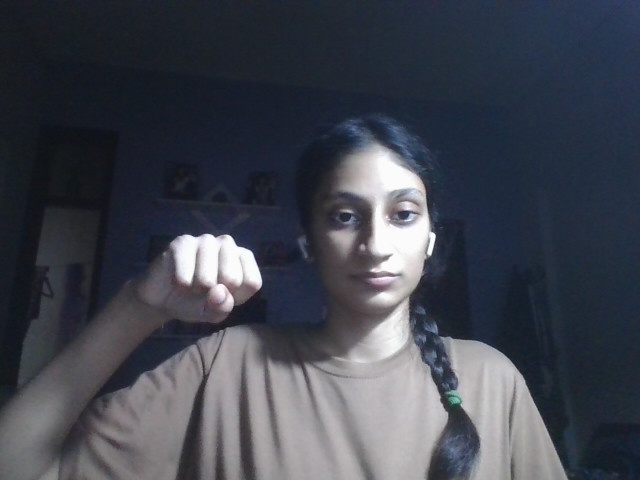yes: (142, 232, 265, 331)
